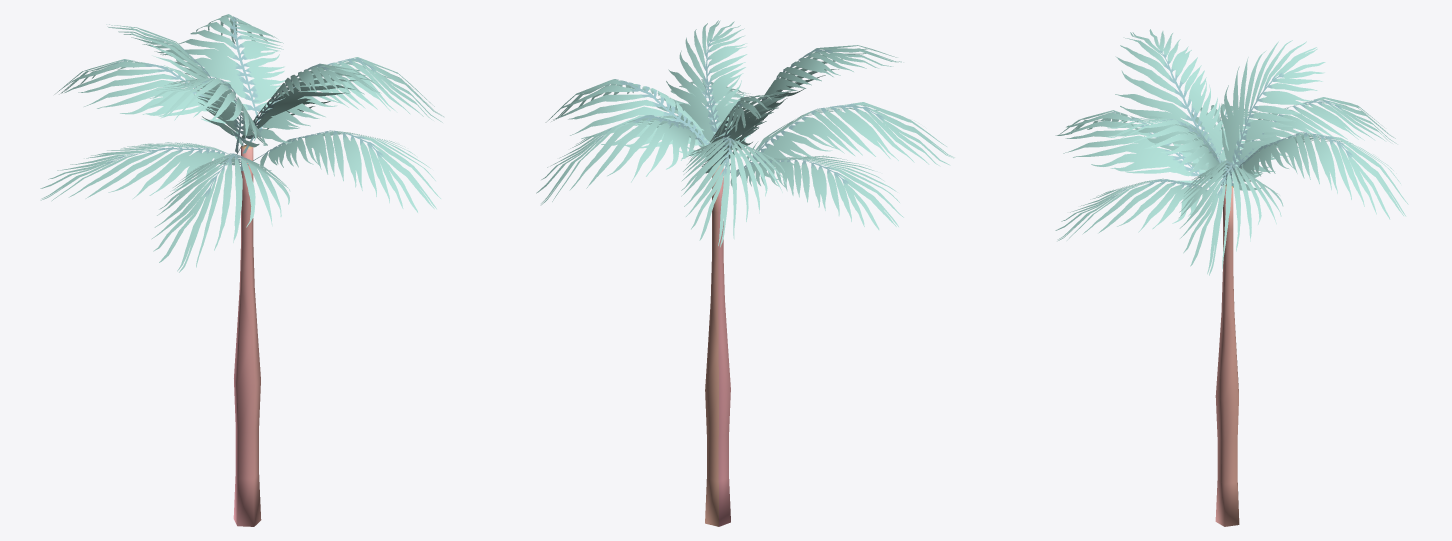
File: M.palm_tree-v1.3.fbx
The picture shows the model from 3 angles, left to right: view 1: azimuth 30°, elevation 25°; view 2: azimuth 150°, elevation 25°; view 3: azimuth 270°, elevation 25°; orthographic projection. The views are drawn at different scales.
Visible parts, largest first — view 1: leaf2.036; view 2: leaf2.036; view 3: leaf2.036.
Part boxes in pixels (left/top/right/bottom): leaf2.036: left=40, top=14, right=444, bottom=526; leaf2.036: left=536, top=20, right=954, bottom=526; leaf2.036: left=1055, top=29, right=1408, bottom=526.
Size of the model in its own units: 518 by 629 by 547.
